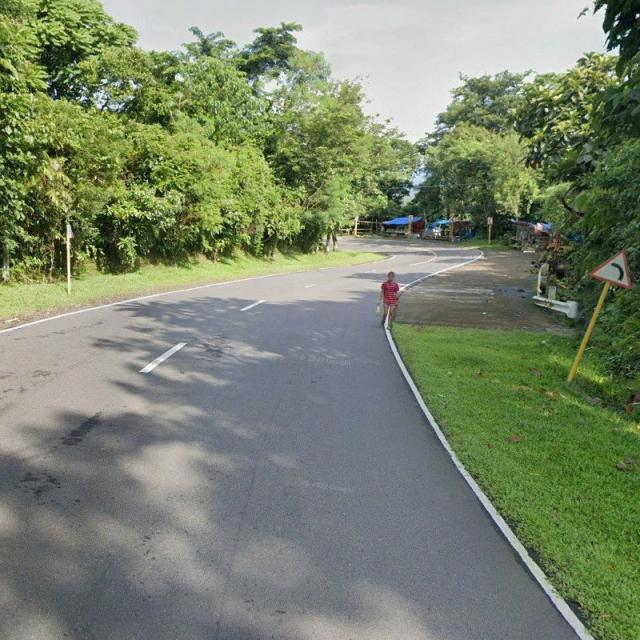warn_left_curve: (589, 249, 631, 288)
